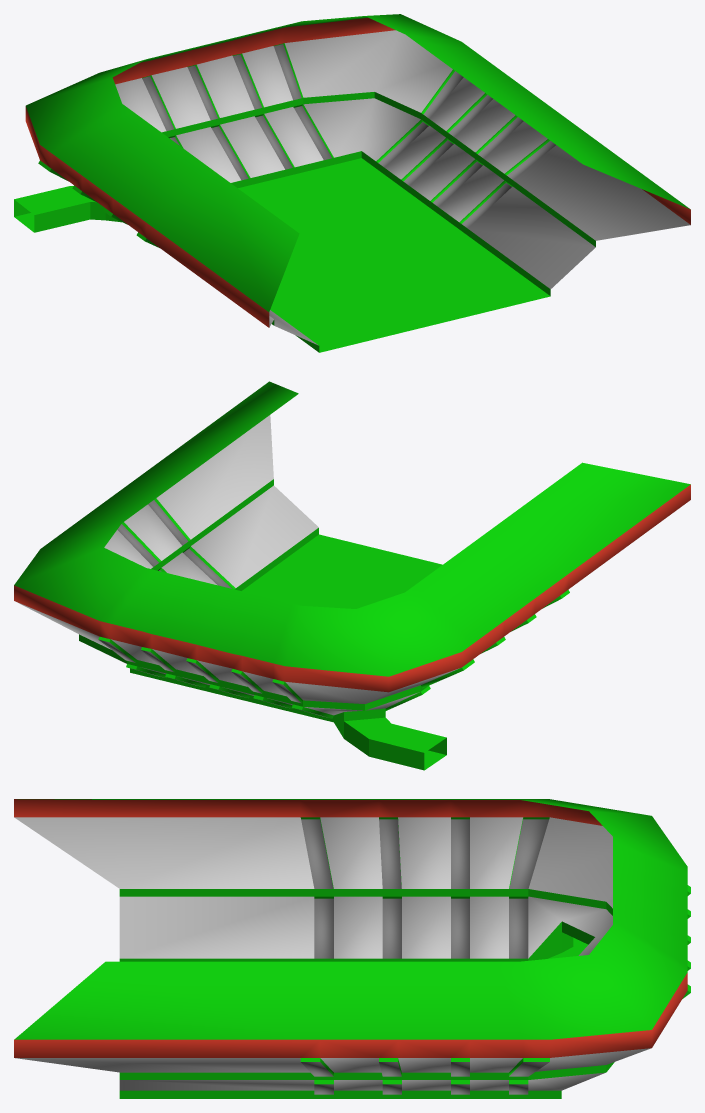
The model's file is Stadium.fbx.
3 renders of one model, top to bottom at view 1: azimuth 30°, elevation 25°; view 2: azimuth 150°, elevation 25°; view 3: azimuth 270°, elevation 25°, orthographic. The views are drawn at different scales.
Visible parts, largest first — view 1: Plane; view 2: Plane; view 3: Plane.
Part boxes in pixels (x1=…): Plane: x1=14, y1=14, x2=690, y2=352; Plane: x1=14, y1=381, x2=690, y2=770; Plane: x1=14, y1=799, x2=690, y2=1098.
Bounding box in the file's own units: 3.68 × 1.07 × 4.33.
